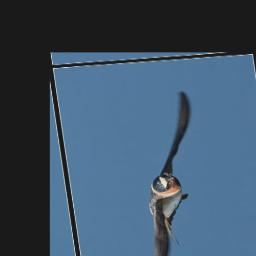Swallow: (118, 90, 213, 256)
